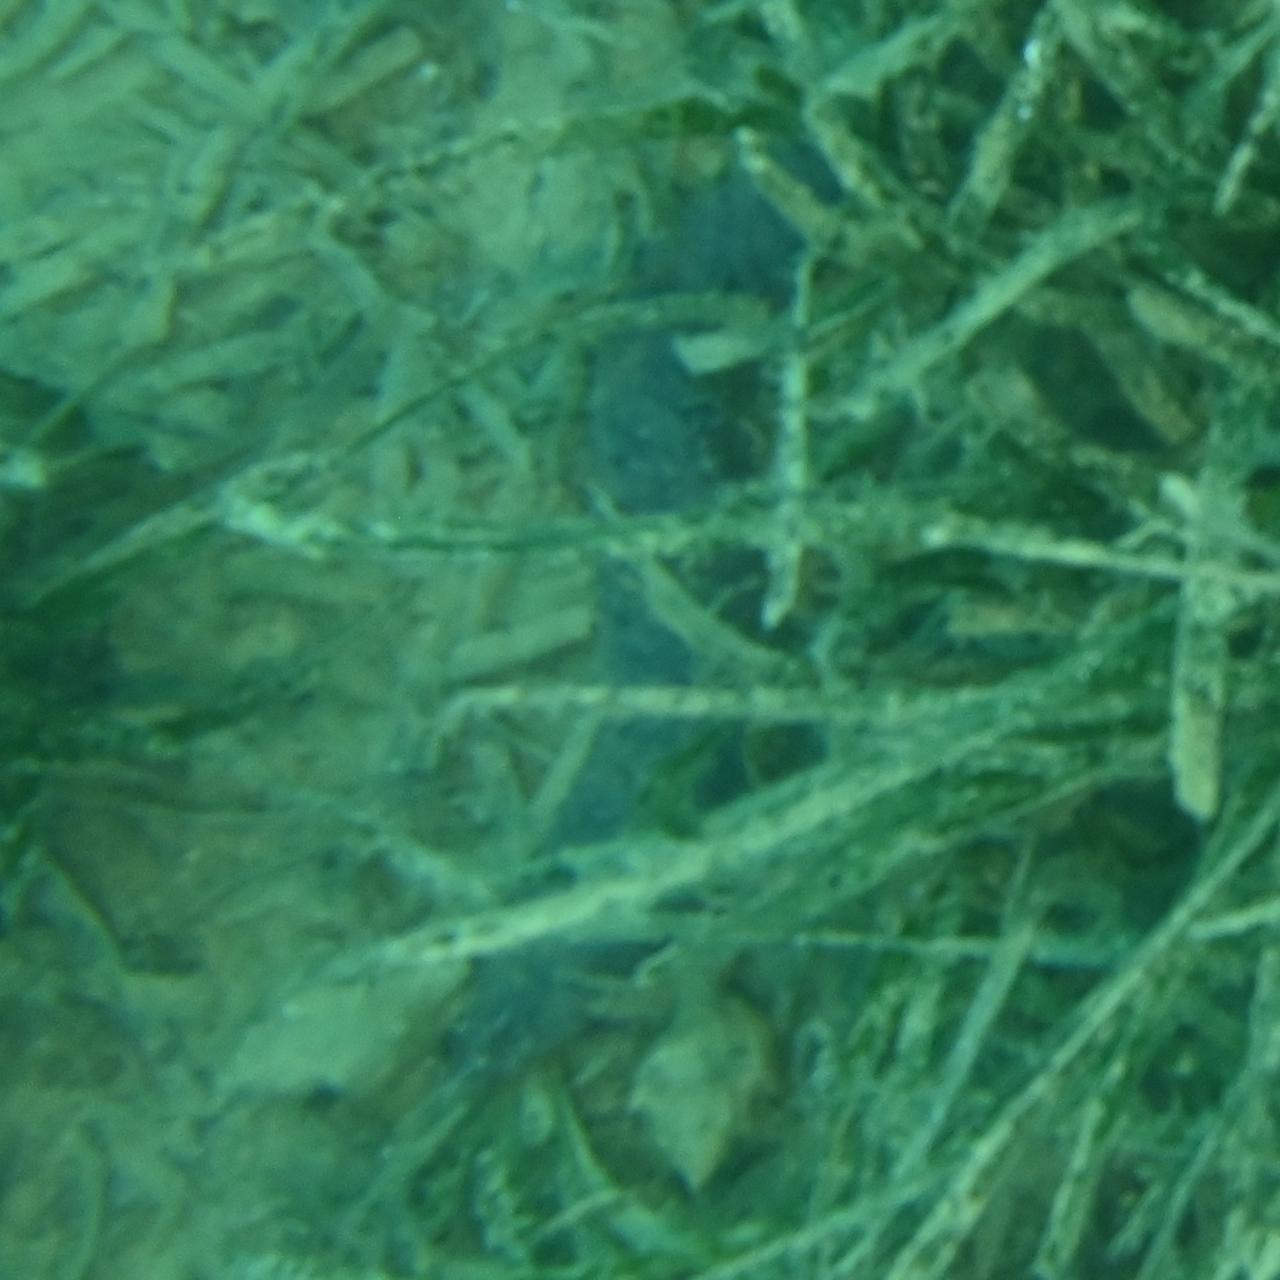Holothuria tubulosa: (416, 146, 864, 1134)
